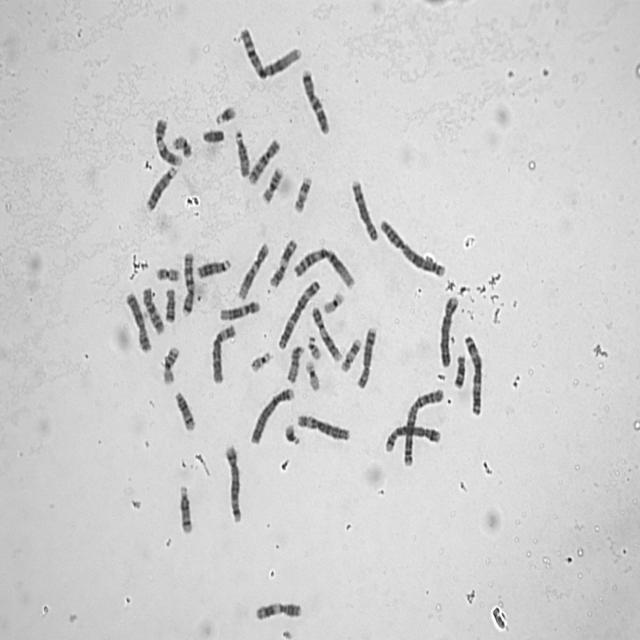A1: (236, 22, 303, 82), (291, 242, 357, 290)
A2: (377, 214, 447, 279), (400, 384, 445, 468)
A3: (275, 275, 322, 351), (460, 331, 484, 417)
B4: (247, 383, 295, 446), (436, 291, 460, 369)
B5: (382, 421, 442, 454), (221, 440, 243, 524)
C10: (245, 134, 281, 186), (139, 282, 166, 336)
C11: (266, 234, 298, 289), (252, 597, 303, 621)
C12: (234, 238, 270, 301), (216, 296, 262, 322)
C6: (208, 320, 237, 385), (294, 410, 351, 442)
C7: (298, 64, 331, 136), (179, 248, 196, 318)
C8: (348, 175, 380, 243), (354, 323, 377, 389)
C9: (309, 302, 343, 362), (152, 114, 184, 168)
D13: (142, 162, 178, 212), (194, 254, 232, 280)
D14: (171, 387, 196, 432), (175, 480, 194, 535)
D15: (231, 125, 251, 179), (284, 341, 306, 384)
E16: (258, 163, 284, 205), (159, 342, 180, 386)
E17: (338, 334, 362, 374), (291, 172, 313, 214)
E18: (162, 284, 177, 324), (452, 350, 466, 390)
F19: (319, 287, 345, 315), (302, 356, 321, 392)
F20: (169, 130, 193, 158), (153, 262, 182, 282)
G21: (212, 101, 238, 125), (282, 419, 302, 447)
G22: (246, 347, 272, 374), (304, 332, 322, 361)
X: (122, 287, 152, 353)
Y: (199, 124, 226, 145)
